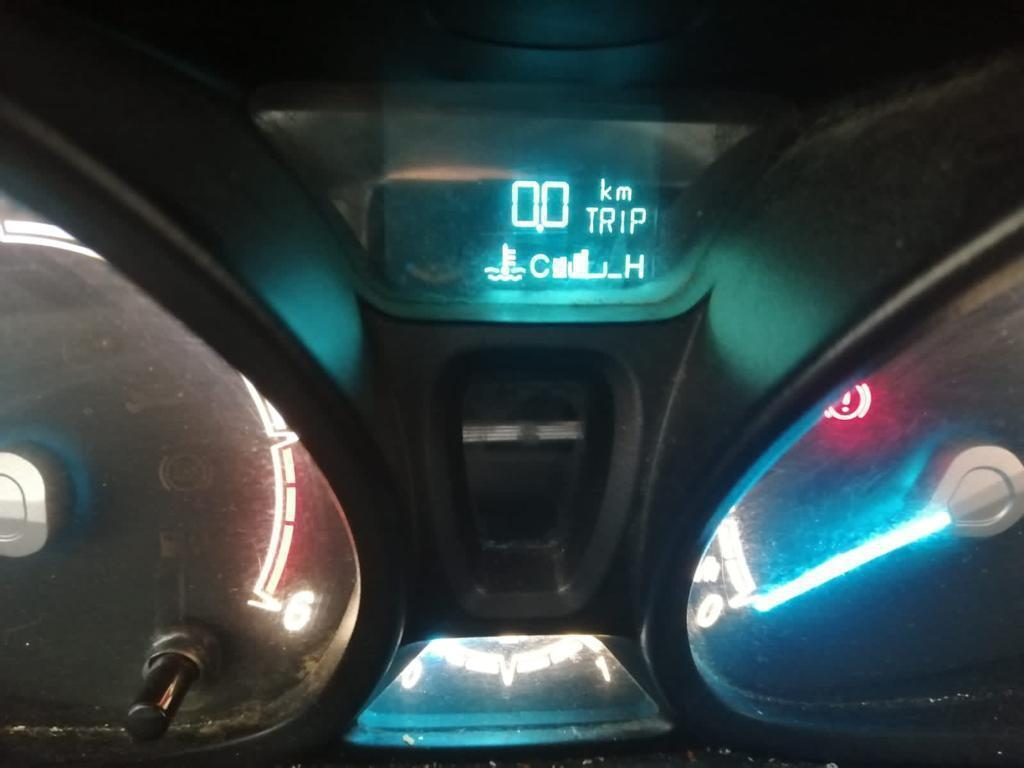,: (533, 221, 545, 236)
0: (509, 177, 540, 227), (542, 178, 570, 227)
X: (622, 251, 649, 281), (528, 251, 550, 281), (629, 203, 647, 236), (599, 174, 616, 202), (599, 205, 613, 234), (585, 204, 597, 232), (616, 183, 632, 202), (619, 207, 626, 235)
odometer: (361, 161, 684, 300)
